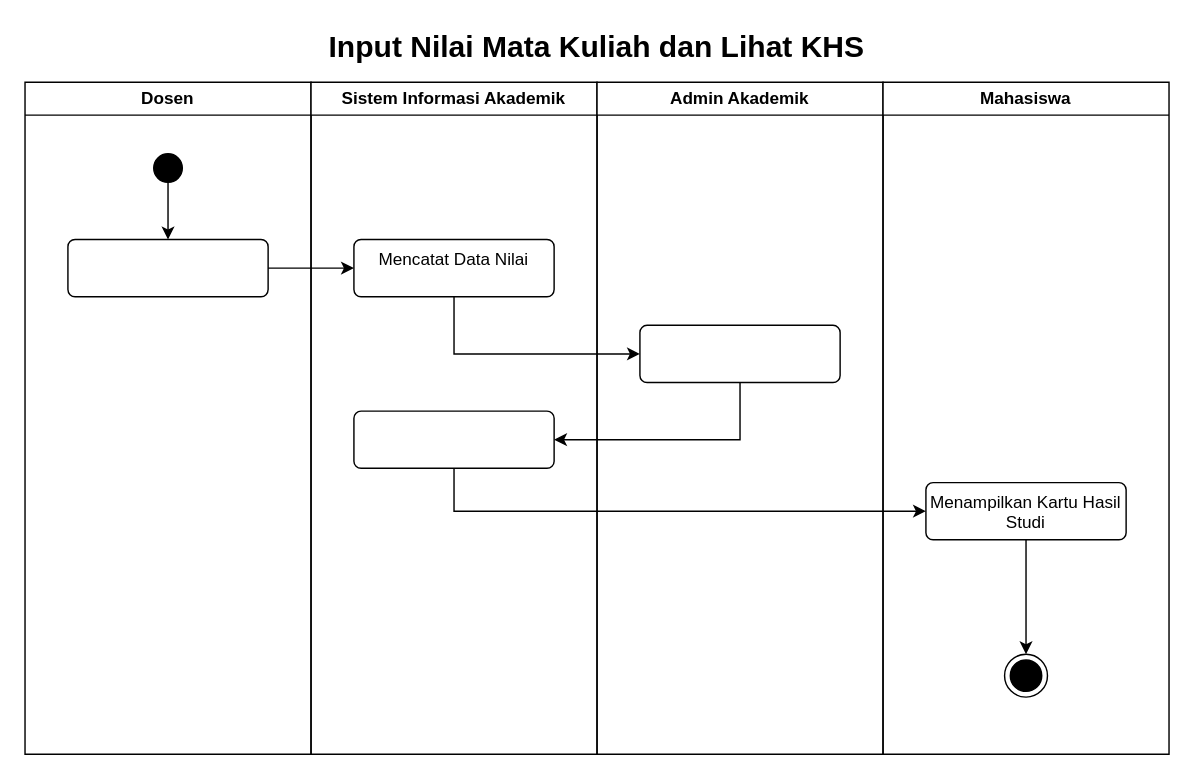
Image size: 1194x779. Some labels were removed from this diagram. The shapes that lost their labels are listed below. From the top down, each one's centre as x and y in pixels, then its label:
At point (167, 267): "Menginput Nilai Perkuliahan".
At point (739, 353): "Memvalidasi serta Menyetujui Nilai".
At point (453, 439): "Membuat Kartu Hasil Studi".
